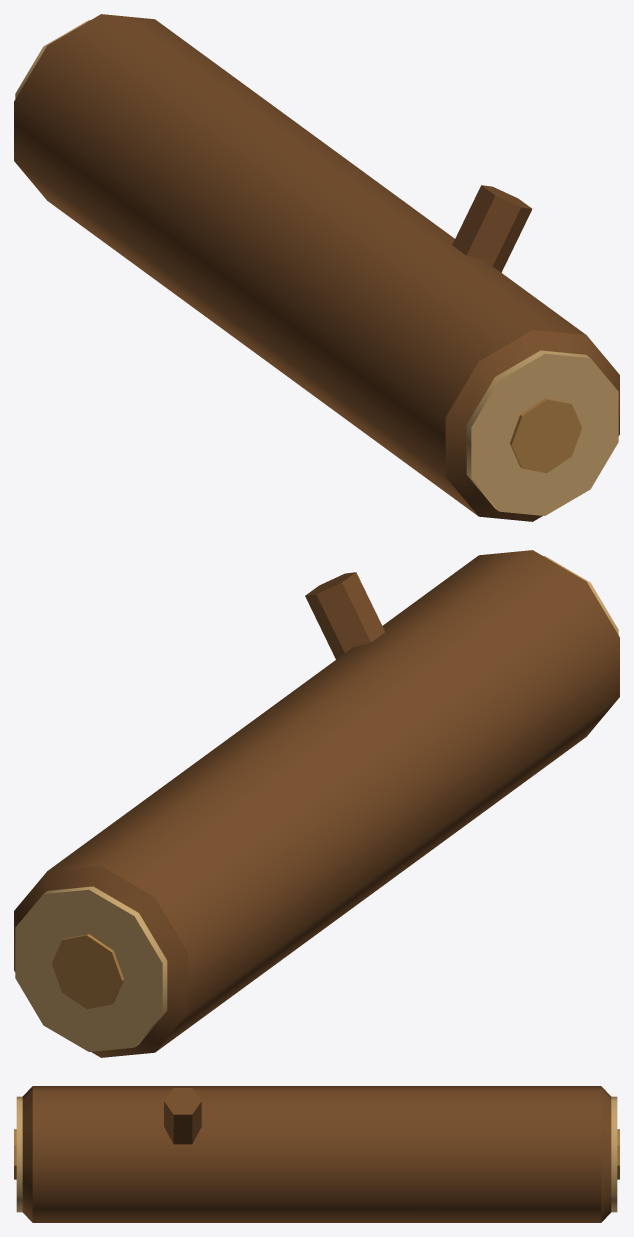
The model's file is c_log.glb.
The picture shows the model from 3 angles, top to bottom: view 1: azimuth 30°, elevation 25°; view 2: azimuth 150°, elevation 25°; view 3: azimuth 270°, elevation 25°; orthographic projection. The views are drawn at different scales.
Visible parts, largest first — view 1: body; view 2: body; view 3: body.
Boxes of the visible parts, <box> form: body: <box>14,14,619,521</box>; body: <box>14,550,619,1057</box>; body: <box>14,1086,619,1222</box>.
Size of the model in its own units: 0.2749 by 0.3131 by 1.13.
